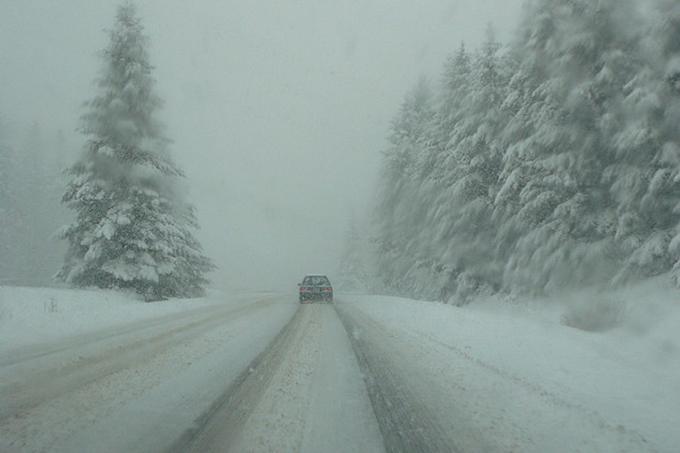car: (297, 273, 335, 304)
